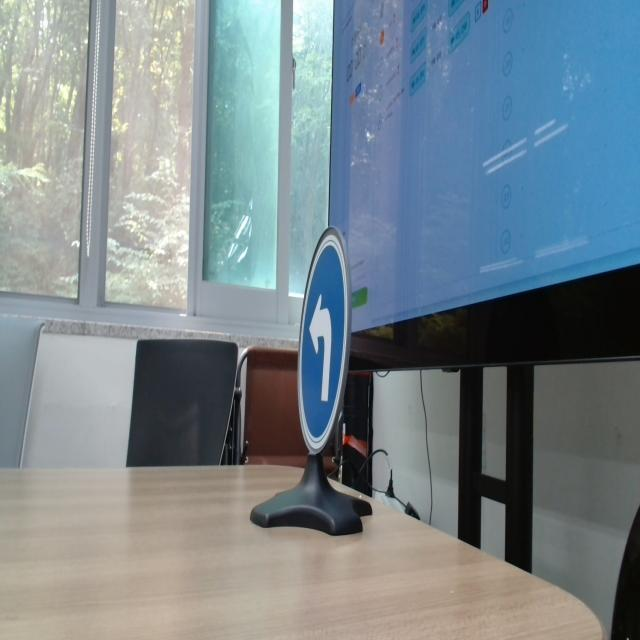left_direction: (284, 223, 367, 439)
